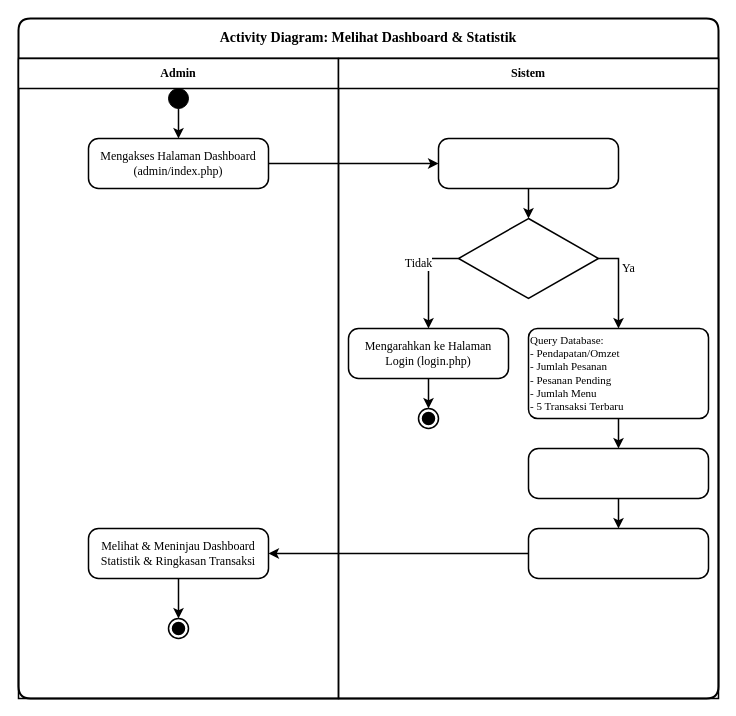
Image size: 736x716. Some labels were removed from this diagram. The shapes that lost their labels are listed below. From the top down, each one's centre as x and y in pixels, then its label:
point (528, 163): Mengecek Sesi Login Admin
point (528, 258): Apakah Sesi Aktif?
point (618, 473): Menyajikan 4 Kartu Statistik Ringkasan Bisnis
point (618, 553): Menampilkan Tabel 5 Pesanan Pelanggan Terbaru
